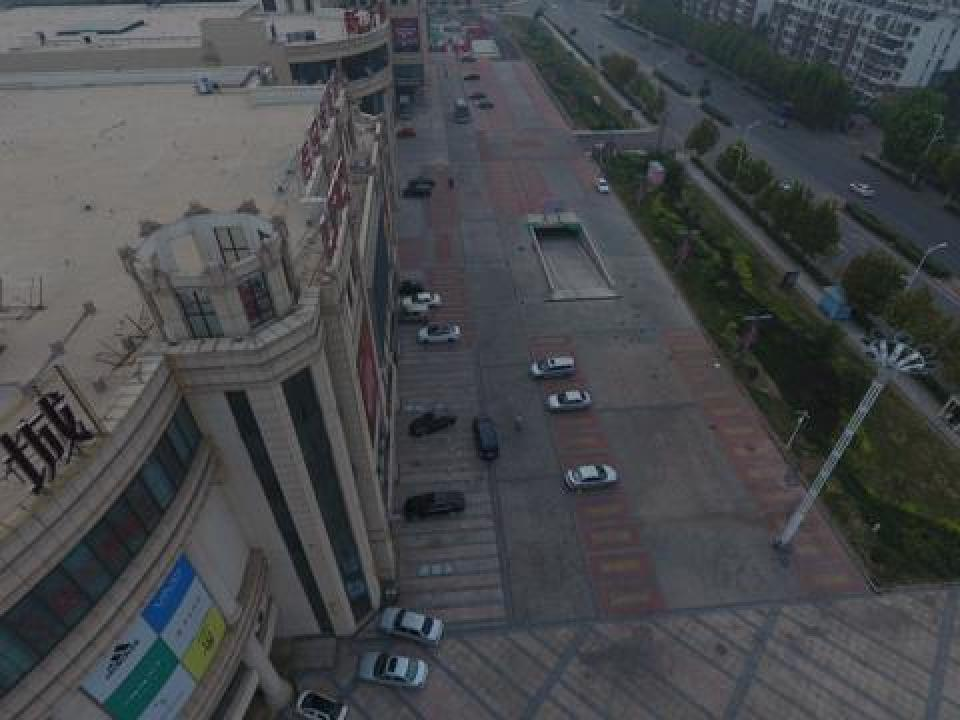bus: (396, 94, 412, 120), (454, 98, 470, 122)
car: (376, 606, 444, 648), (354, 652, 428, 690), (404, 490, 466, 518), (294, 688, 348, 720), (408, 406, 456, 436), (566, 464, 618, 488), (546, 390, 590, 412), (418, 324, 460, 342), (400, 292, 440, 306), (848, 182, 874, 198), (400, 186, 430, 198), (408, 174, 432, 186), (766, 116, 788, 128), (394, 128, 416, 138), (466, 90, 486, 100), (596, 178, 610, 192), (474, 100, 492, 108), (460, 54, 476, 62), (462, 74, 480, 80)
truck: (764, 96, 792, 118), (684, 50, 704, 66)
van: (472, 414, 498, 458), (530, 356, 574, 378), (398, 302, 430, 320)
